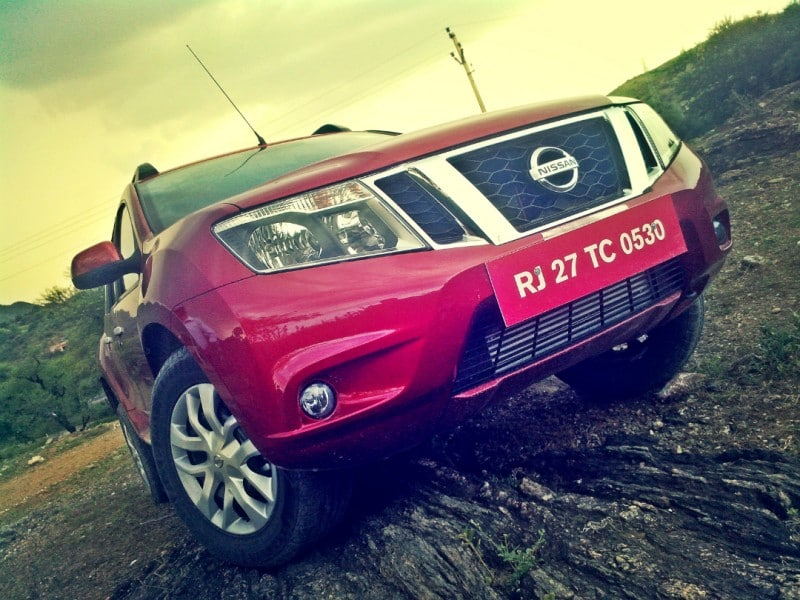number_plate: (484, 183, 692, 328)
